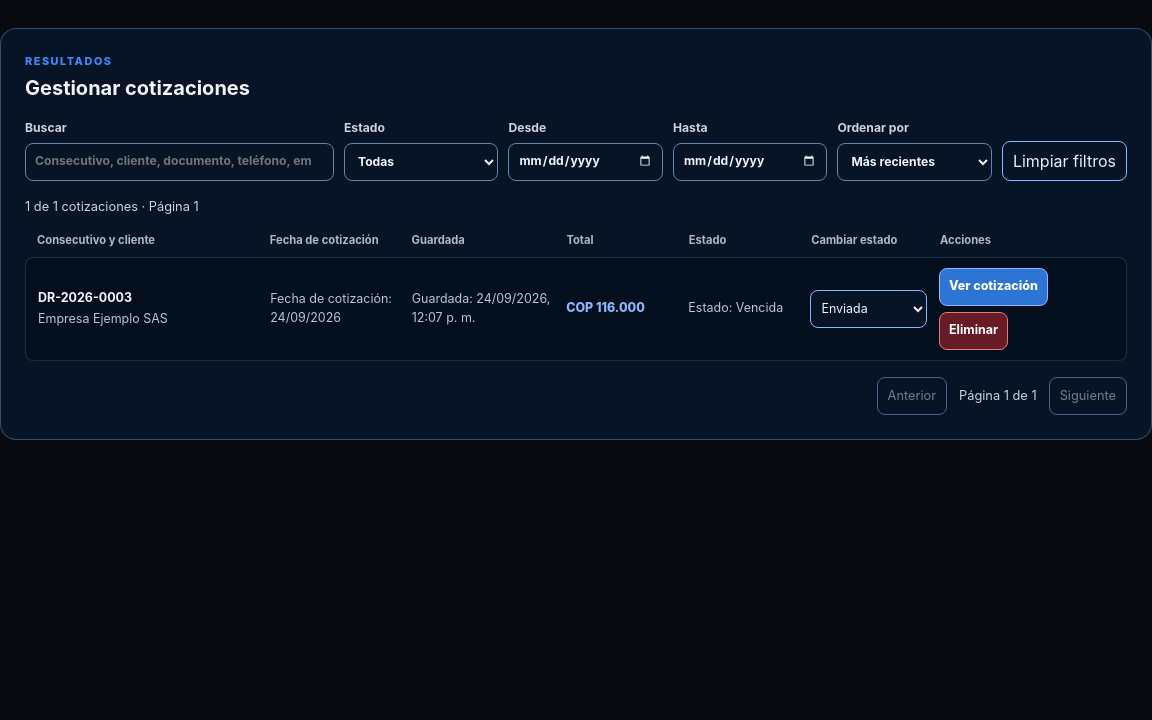
Test: QuotationHistory › opens a complete historical quotation from the saved list
Step 1. Click the button "Ver cotización" → {"x": 993, "y": 286}, box [939, 268, 1048, 306]
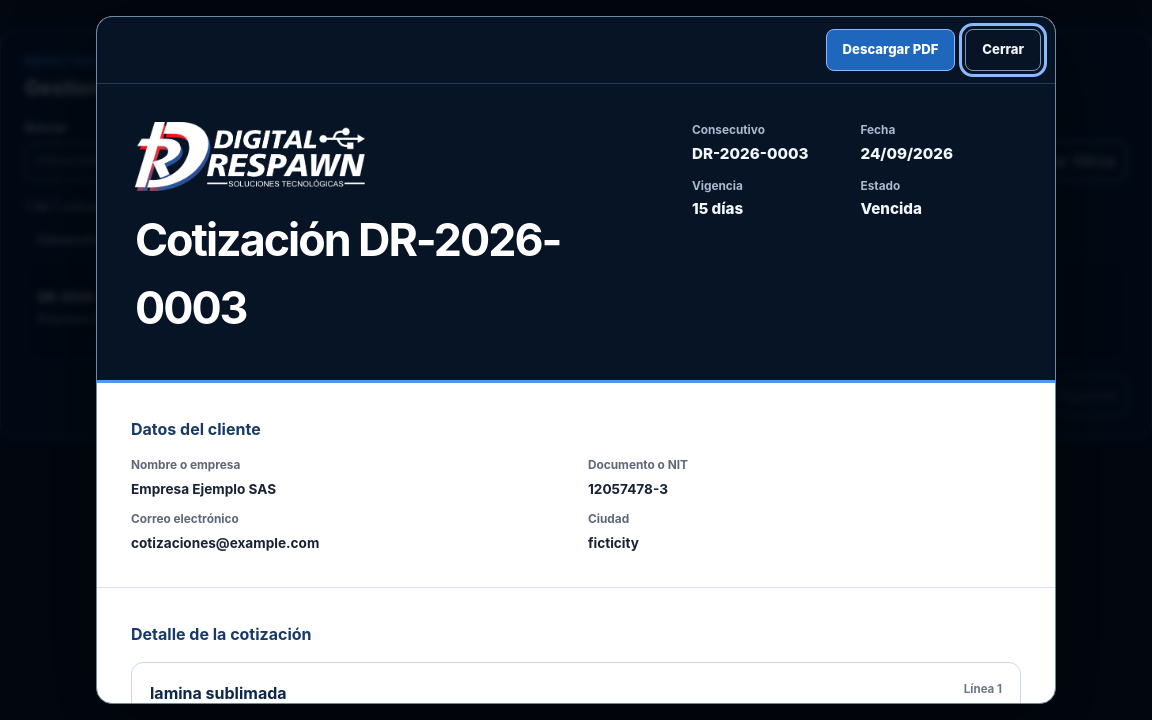
Expected: the dialog is shown
Expected: the dialog shows "Empresa Ejemplo SAS", [131, 481, 276, 497]
Expected: the dialog shows "Cotización DR-2026-0003"
Step 2. Click the button with aria-label "Cerrar vista previa de la cotización" → {"x": 1003, "y": 50}, box [965, 29, 1041, 71]
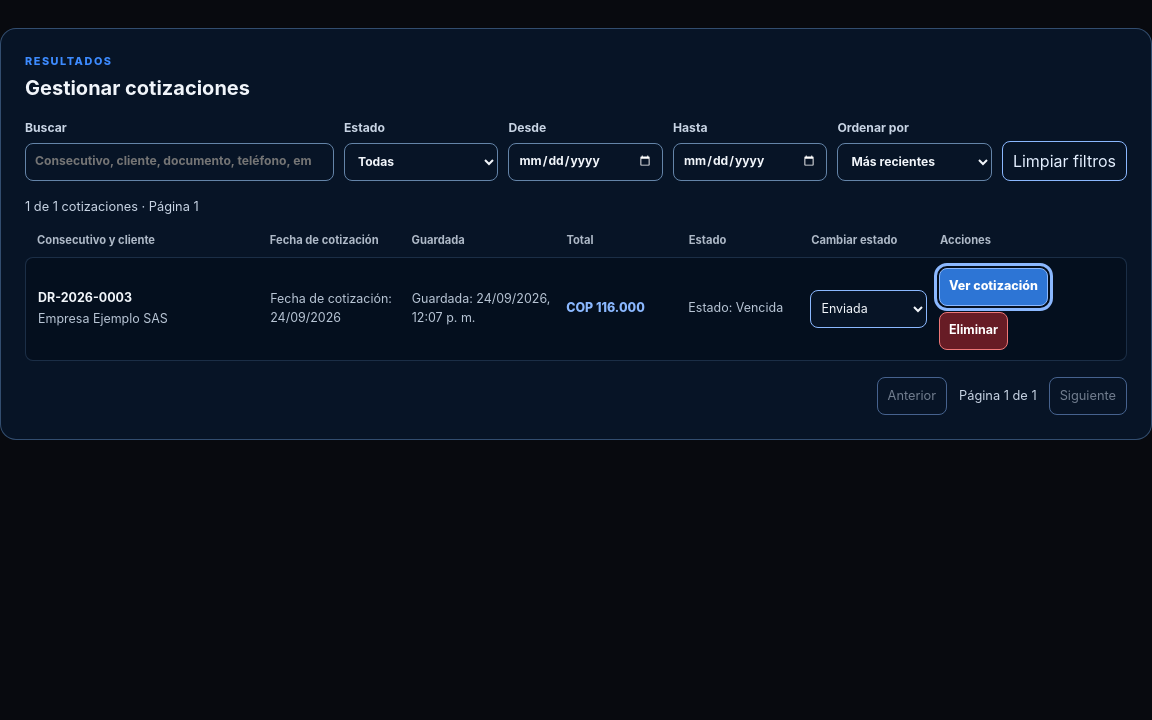
Expected: the dialog is gone
Step 3. Click the button "Ver cotización" → {"x": 993, "y": 286}, box [939, 268, 1048, 306]
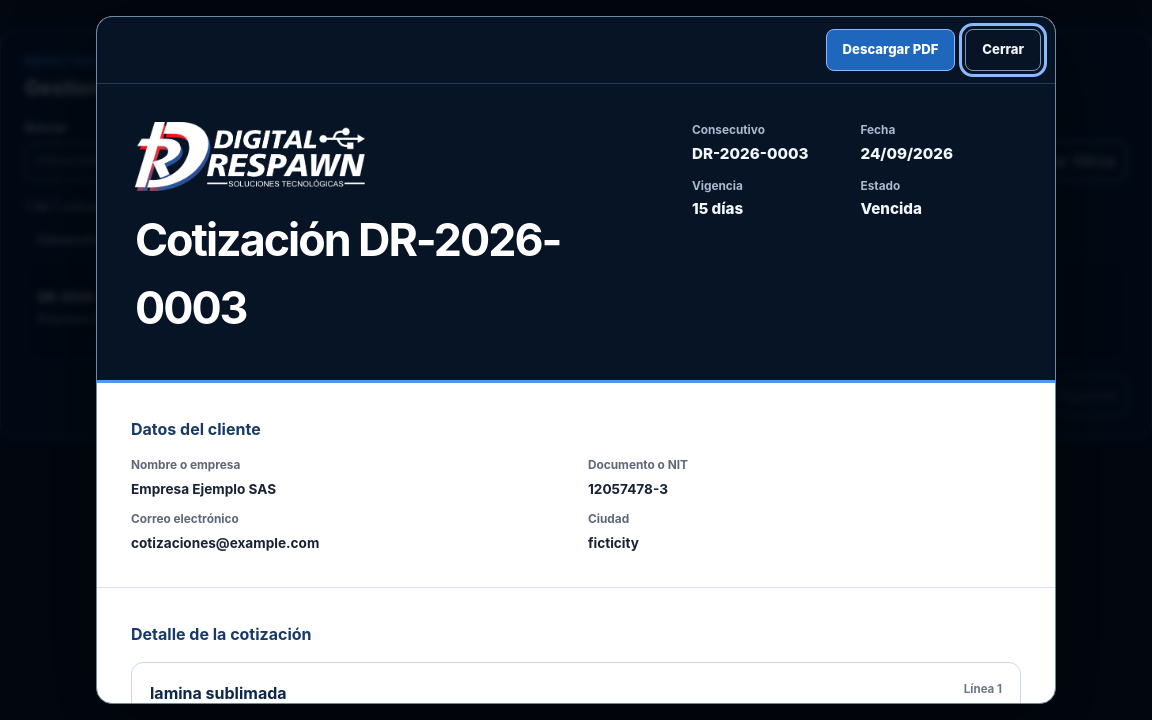
Expected: the dialog shows "Cotización DR-2026-0003"
